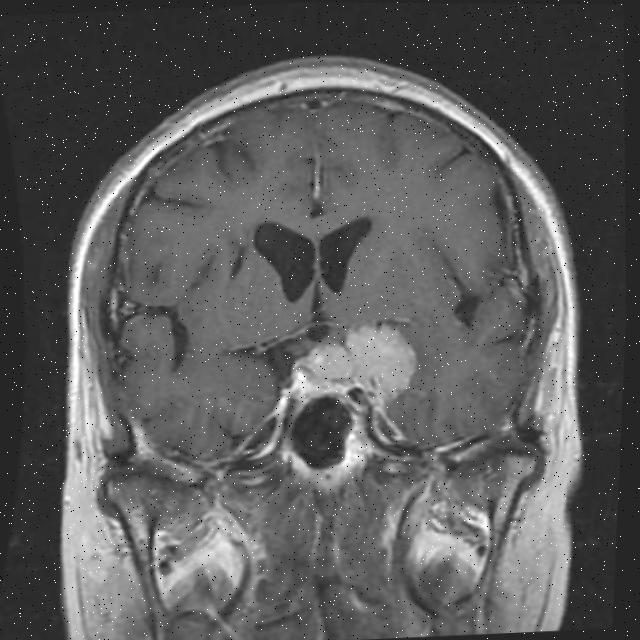Meningioma: (287, 321, 421, 408)
